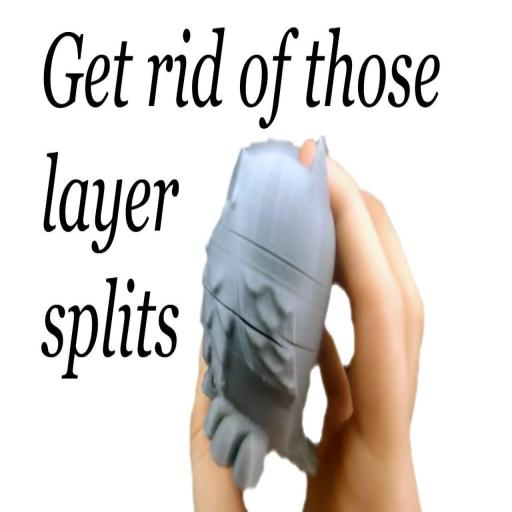cracks: (194, 271, 302, 370)
